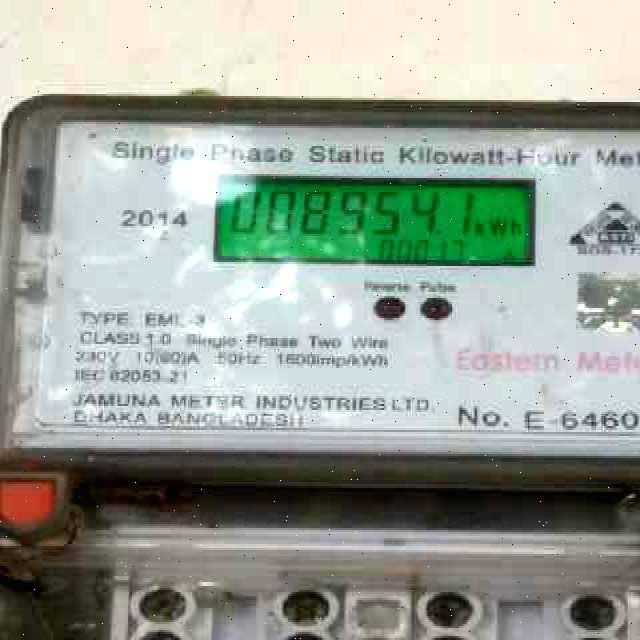LCD: (204, 168, 547, 275)
